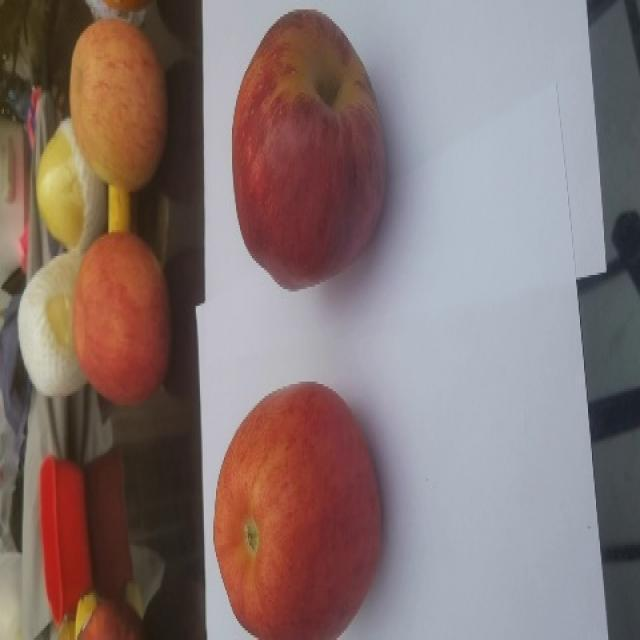Apple: (213, 376, 382, 640), (231, 9, 388, 293), (71, 222, 177, 409), (66, 17, 173, 193)
